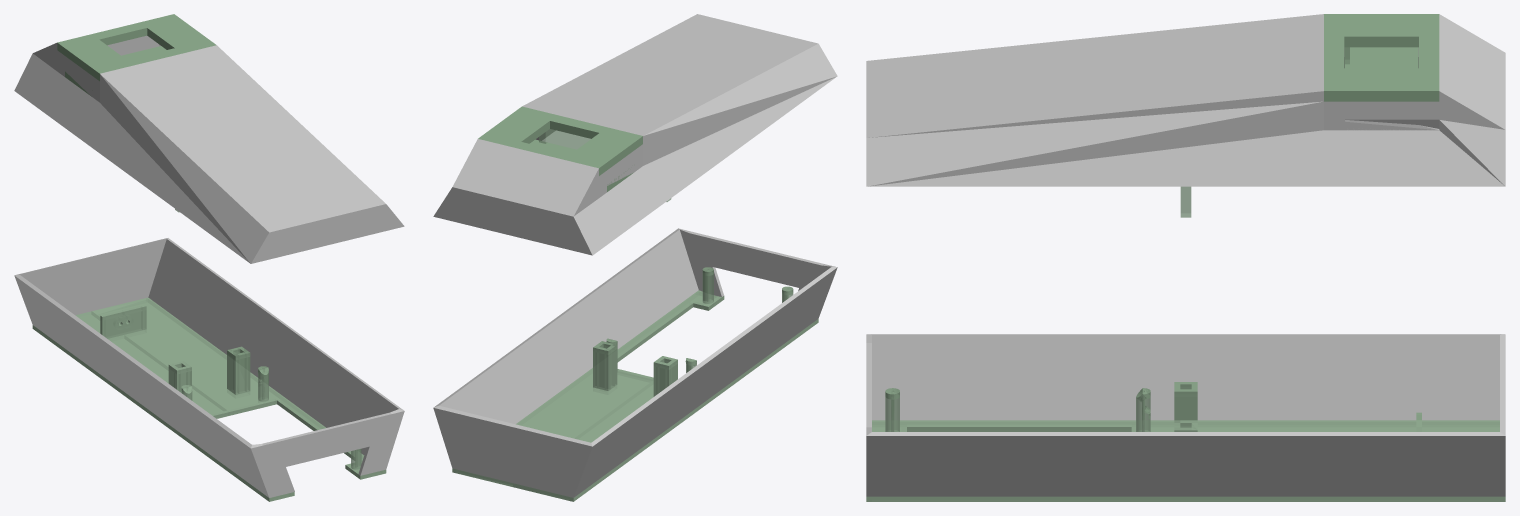
Rendered from IoTSwitchV2.obj.
The picture shows the model from 3 angles, left to right: view 1: azimuth 30°, elevation 25°; view 2: azimuth 150°, elevation 25°; view 3: azimuth 270°, elevation 25°; orthographic projection. The views are drawn at different scales.
Parts seen in each view (by area): view 1: IoTSwitchV2\Těleso, IoTSwitchV2\Povrch_(2); view 2: IoTSwitchV2\Těleso, IoTSwitchV2\Povrch_(2); view 3: IoTSwitchV2\Těleso, IoTSwitchV2\Povrch_(2).
Part boxes in pixels (bbox=[...]): IoTSwitchV2\Těleso: bbox=[14, 238, 404, 501]; IoTSwitchV2\Povrch_(2): bbox=[14, 14, 404, 263]; IoTSwitchV2\Těleso: bbox=[433, 228, 837, 501]; IoTSwitchV2\Povrch_(2): bbox=[433, 14, 837, 255]; IoTSwitchV2\Těleso: bbox=[866, 334, 1505, 501]; IoTSwitchV2\Povrch_(2): bbox=[866, 14, 1505, 217].
Bounding box in the file's own units: 41.7 × 78.75 × 111.
